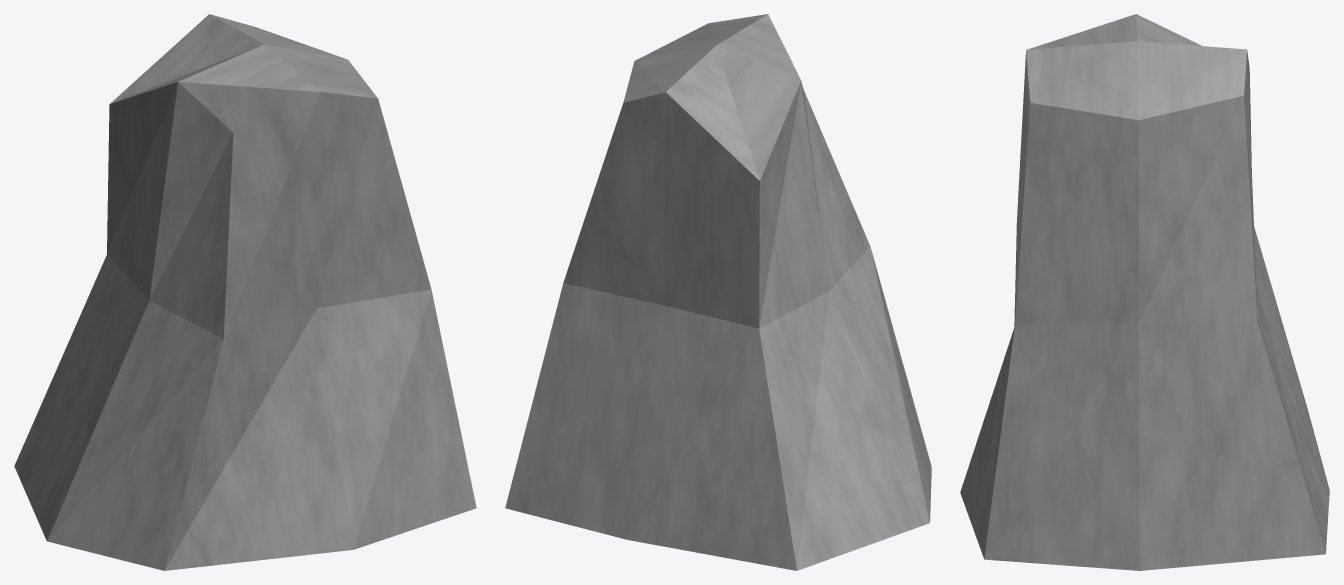
File: real_stone_2.fbx
The picture shows the model from 3 angles, left to right: view 1: azimuth 30°, elevation 25°; view 2: azimuth 150°, elevation 25°; view 3: azimuth 270°, elevation 25°; orthographic projection. The views are drawn at different scales.
Parts seen in each view (by area): view 1: Stone_3; view 2: Stone_3; view 3: Stone_3.
Boxes of the visible parts, x1,y1,x2,y2 form: Stone_3: [14, 14, 476, 570]; Stone_3: [505, 14, 931, 570]; Stone_3: [960, 14, 1329, 570].
Size of the model in its own units: 247 by 276 by 205.
1 material, 1 textured.
